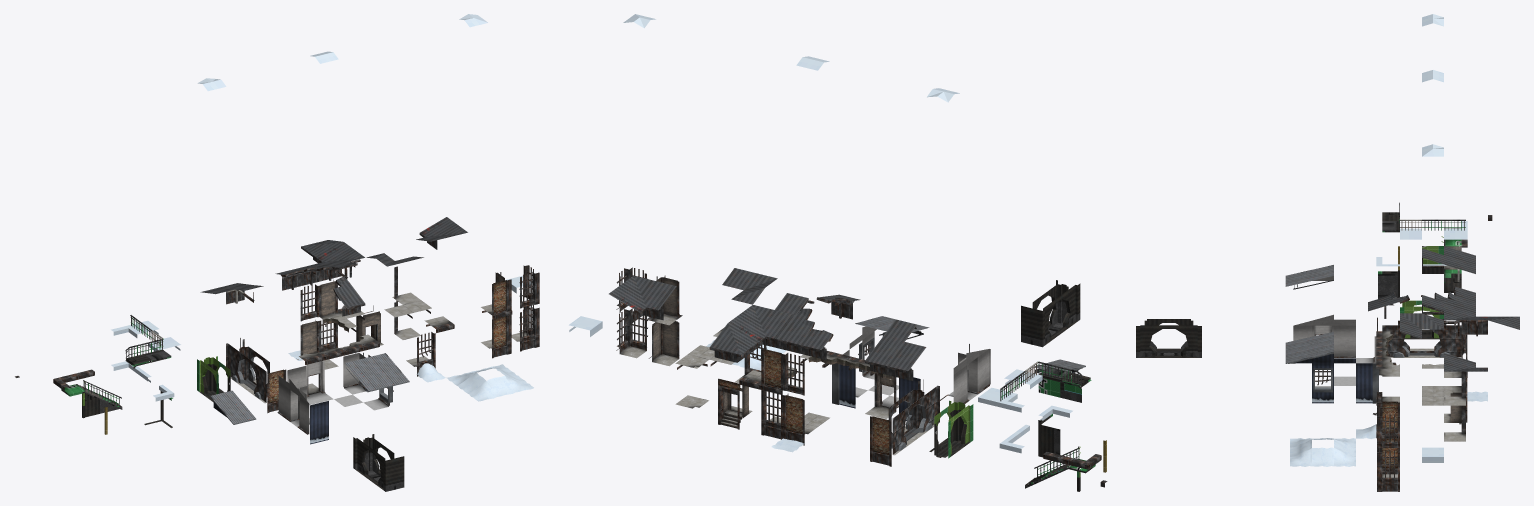
File: grave_factory_tiles.glb
The picture shows the model from 3 angles, left to right: view 1: azimuth 30°, elevation 25°; view 2: azimuth 150°, elevation 25°; view 3: azimuth 270°, elevation 25°; orthographic projection. The views are drawn at different scales.
Parts seen in each view (by area): view 1: 31_fac_ground_wall_powered_door_4x1-col, 27_fac_ground_wall_powered_door_3x1-col, 70_fac_ground_shack_inner_wall-col, 79_fac_roof_interior_corner_in-col, 80_fac_ground_wall_powered_door_2x1-col, 15_fac_ground_wall_out_corner-col, 30_fac_ground_wall_wall_out_corner-col, 25_fac_roof_corner_in-col, 56_fac_wall_wall_corner_out-col, 21_fac_wall_corner_out-col, 66_fac_ground_door_to_shack-col, 40_fac_roof_broken_start_b-col (+4 smaller); view 2: 31_fac_ground_wall_powered_door_4x1-col, 27_fac_ground_wall_powered_door_3x1-col, 25_fac_roof_corner_in-col, 79_fac_roof_interior_corner_in-col, 80_fac_ground_wall_powered_door_2x1-col, 12_fac_ground_wall_door-col, 26_fac_roof_corner_out-col, 30_fac_ground_wall_wall_out_corner-col, 15_fac_ground_wall_out_corner-col, 68_fac_ground_shack_corner_out-col, 11_fac_ground_wall_wall-col, 22_fac_roof-col (+12 smaller); view 3: 27_fac_ground_wall_powered_door_3x1-col, 31_fac_ground_wall_powered_door_4x1-col, 79_fac_roof_interior_corner_in-col, 68_fac_ground_shack_corner_out-col, 15_fac_ground_wall_out_corner-col, 82_fac_ground_shack_inner_wall_no_outside-col, 97_fac_ground_shack_window-col, 21_fac_wall_corner_out-col, 80_fac_ground_wall_powered_door_2x1-col, 63_fac_stairs_fence_corner-col, 56_fac_wall_wall_corner_out-col, 25_fac_roof_corner_in-col (+3 smaller).
Part boxes in pixels (left/top/right/bottom): 31_fac_ground_wall_powered_door_4x1-col: left=225, top=338, right=286, bottom=413; 27_fac_ground_wall_powered_door_3x1-col: left=353, top=434, right=404, bottom=491; 70_fac_ground_shack_inner_wall-col: left=299, top=397, right=328, bottom=444; 79_fac_roof_interior_corner_in-col: left=312, top=242, right=364, bottom=281; 80_fac_ground_wall_powered_door_2x1-col: left=197, top=356, right=230, bottom=402; 15_fac_ground_wall_out_corner-col: left=511, top=305, right=539, bottom=351; 30_fac_ground_wall_wall_out_corner-col: left=481, top=315, right=511, bottom=358; 25_fac_roof_corner_in-col: left=416, top=217, right=467, bottom=249; 56_fac_wall_wall_corner_out-col: left=492, top=272, right=511, bottom=315; 21_fac_wall_corner_out-col: left=519, top=265, right=539, bottom=308; 66_fac_ground_door_to_shack-col: left=306, top=361, right=333, bottom=403; 40_fac_roof_broken_start_b-col: left=333, top=282, right=365, bottom=316; 31_fac_ground_wall_powered_door_4x1-col: left=870, top=379, right=939, bottom=466; 27_fac_ground_wall_powered_door_3x1-col: left=1021, top=280, right=1080, bottom=347; 25_fac_roof_corner_in-col: left=609, top=275, right=676, bottom=323; 79_fac_roof_interior_corner_in-col: left=728, top=305, right=795, bottom=352; 80_fac_ground_wall_powered_door_2x1-col: left=929, top=400, right=973, bottom=458; 12_fac_ground_wall_door-col: left=718, top=378, right=752, bottom=429; 26_fac_roof_corner_out-col: left=709, top=323, right=759, bottom=362; 30_fac_ground_wall_wall_out_corner-col: left=648, top=321, right=679, bottom=366; 15_fac_ground_wall_out_corner-col: left=616, top=308, right=647, bottom=358; 68_fac_ground_shack_corner_out-col: left=832, top=350, right=867, bottom=408; 11_fac_ground_wall_wall-col: left=783, top=393, right=817, bottom=445; 22_fac_roof-col: left=886, top=342, right=926, bottom=380; 27_fac_ground_wall_powered_door_3x1-col: left=1136, top=319, right=1201, bottom=357; 31_fac_ground_wall_powered_door_4x1-col: left=1377, top=317, right=1461, bottom=357; 79_fac_roof_interior_corner_in-col: left=1444, top=302, right=1487, bottom=337; 68_fac_ground_shack_corner_out-col: left=1356, top=363, right=1378, bottom=403; 15_fac_ground_wall_out_corner-col: left=1377, top=448, right=1399, bottom=491; 82_fac_ground_shack_inner_wall_no_outside-col: left=1334, top=325, right=1355, bottom=357; 97_fac_ground_shack_window-col: left=1312, top=363, right=1333, bottom=403; 21_fac_wall_corner_out-col: left=1377, top=407, right=1399, bottom=447; 80_fac_ground_wall_powered_door_2x1-col: left=1400, top=300, right=1443, bottom=339; 63_fac_stairs_fence_corner-col: left=1378, top=270, right=1399, bottom=302; 56_fac_wall_wall_corner_out-col: left=1377, top=393, right=1399, bottom=433; 25_fac_roof_corner_in-col: left=1444, top=353, right=1487, bottom=371.
Size of what is drawn, in the model's own units: 52 by 32.5 by 34.9.
Materials: 6 (6 with a texture image).
